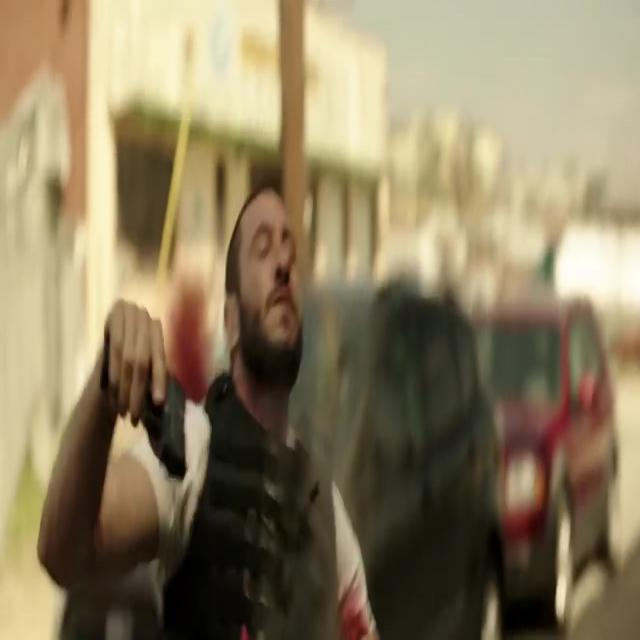Weapon: (101, 299, 195, 495)
